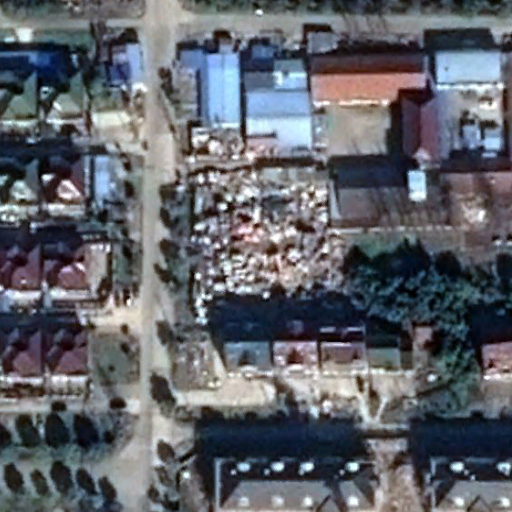msw: (193, 174, 336, 304)
